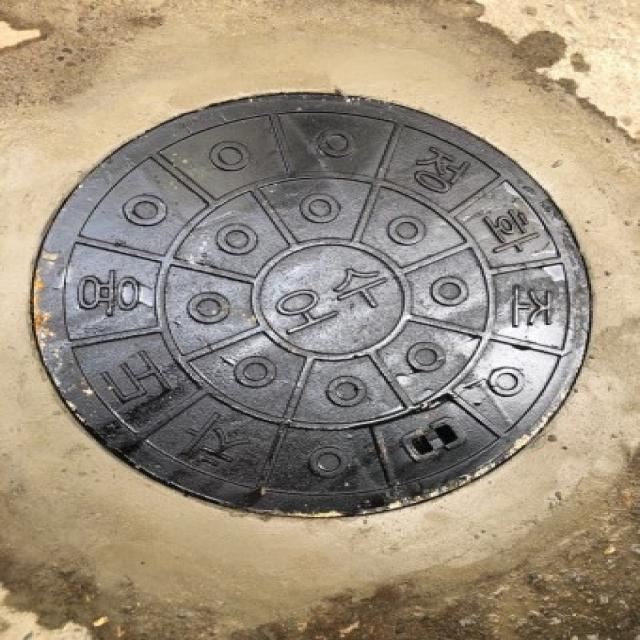manhole: (32, 92, 590, 515)
